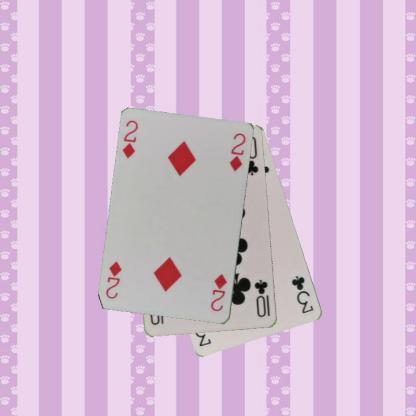10c: (252, 277, 269, 319)
2d: (208, 272, 229, 314), (120, 118, 140, 160)
3c: (289, 273, 315, 315)
